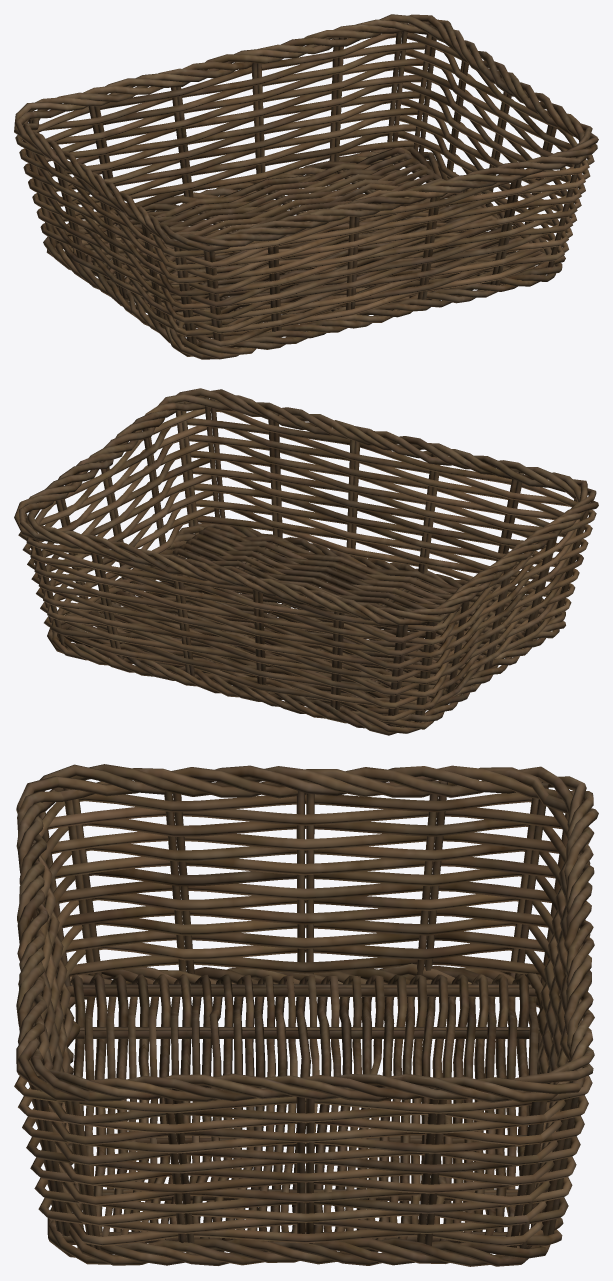
File: basket.glb
3 renders of one model, top to bottom at view 1: azimuth 30°, elevation 25°; view 2: azimuth 150°, elevation 25°; view 3: azimuth 270°, elevation 25°, orthographic. The views are drawn at different scales.
Visible parts, largest first — view 1: wicker_basket_01; view 2: wicker_basket_01; view 3: wicker_basket_01.
Part boxes in pixels (x1,y1,x2,y2): wicker_basket_01: [14, 14, 598, 359]; wicker_basket_01: [14, 388, 598, 735]; wicker_basket_01: [14, 764, 598, 1266].
Bounding box in the file's own units: 0.3832 × 0.1174 × 0.295.
1 material, 1 textured.
